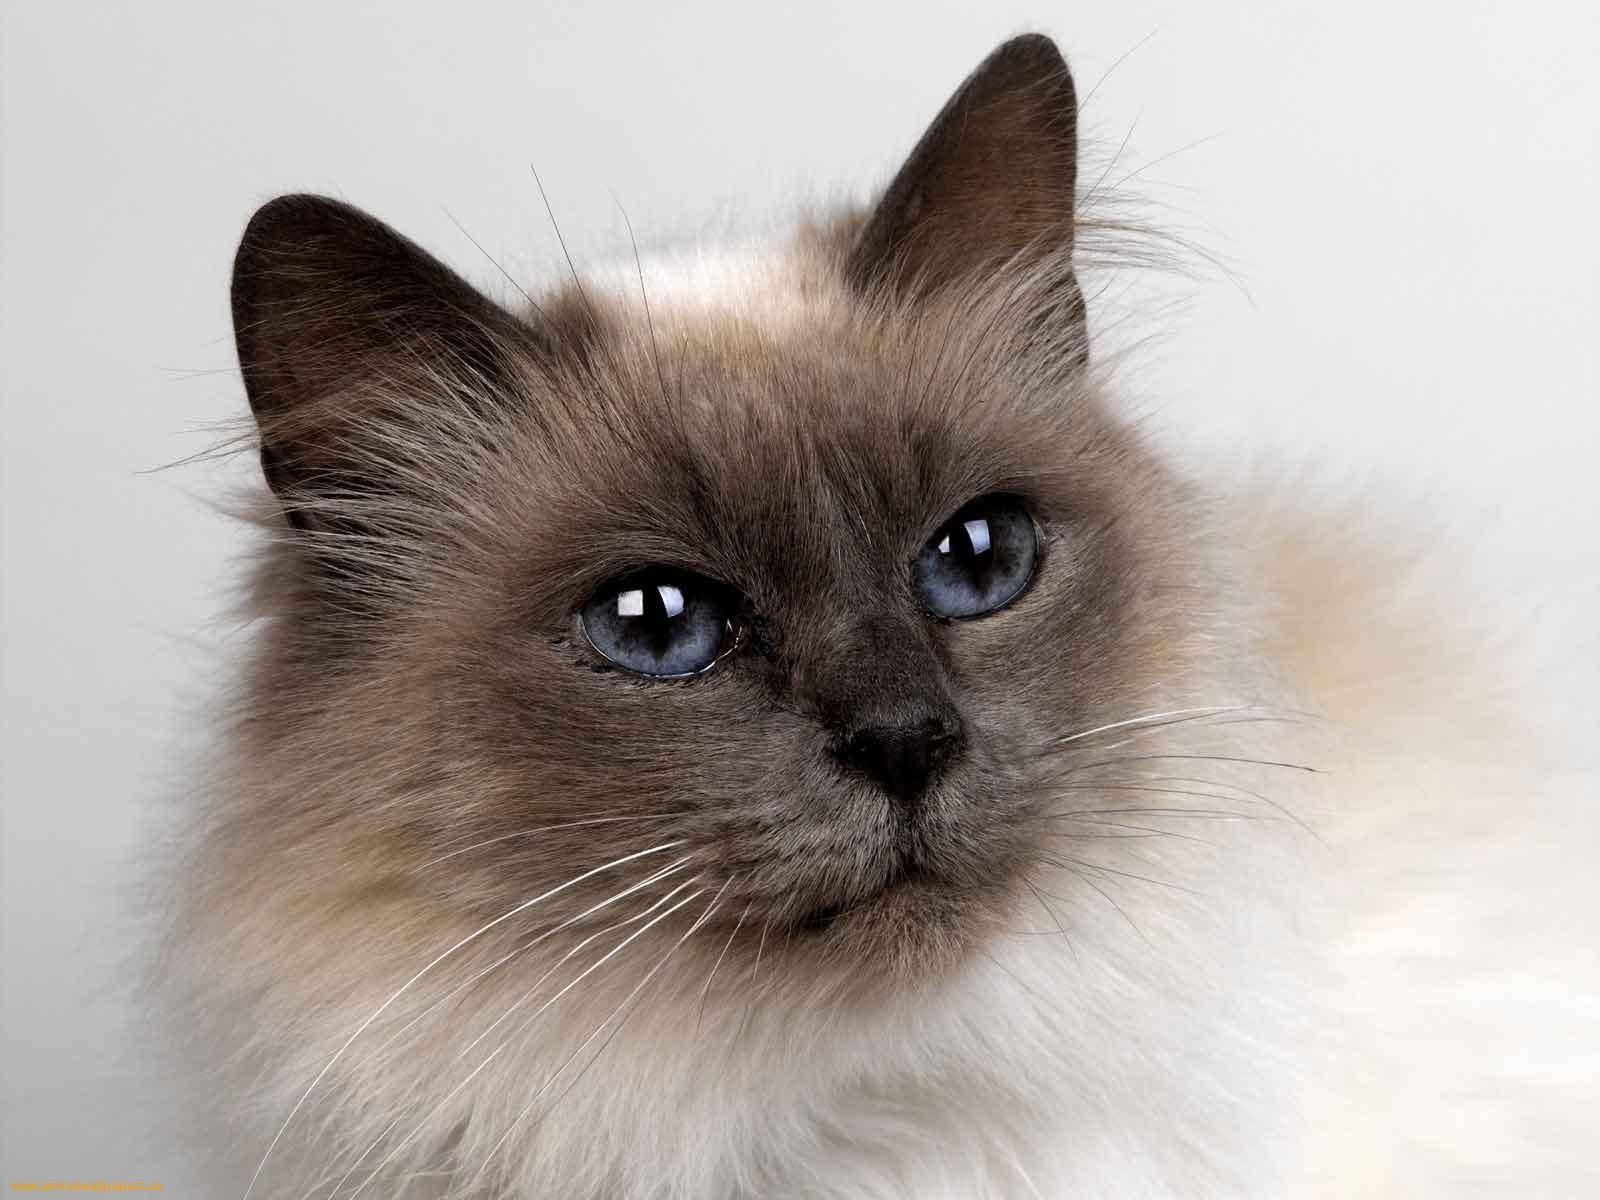siamese: (224, 29, 1199, 1008)
